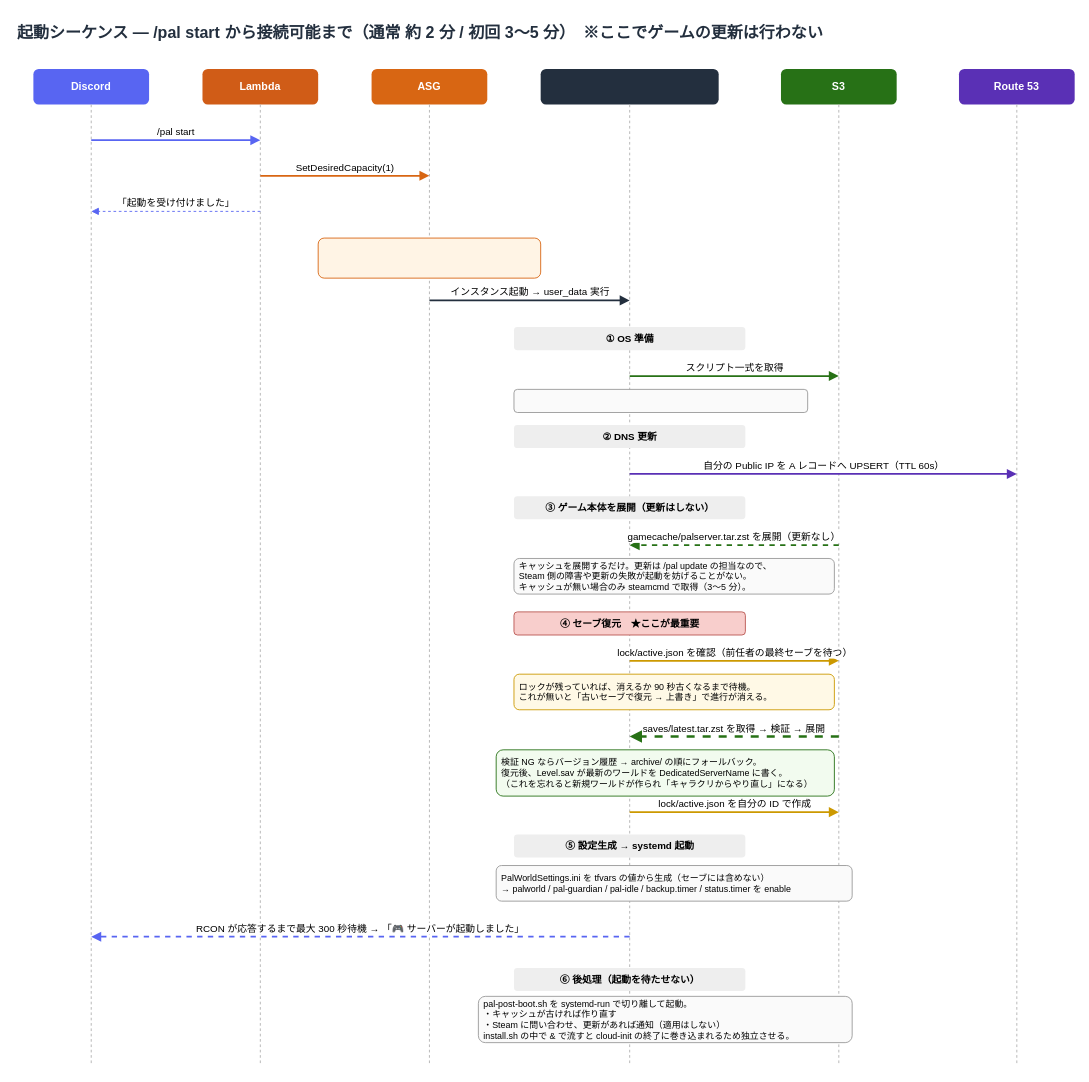
The diagram is 1089 pixels wide and 1082 high, and some of its shapes have lost their labels. The shapes that lost their labels are listed below. From the top down, each one's centre as x and y in pixels, then its label:
the point at 629,86: EC2 / install.sh
the point at 429,257: ASG が 44 プール（11 タイプ × 4 AZ）から 空きスポット枠を探して起動
the point at 660,400: steamcmd 導入 / スワップ 4GB 作成 / palworld ユーザー作成
